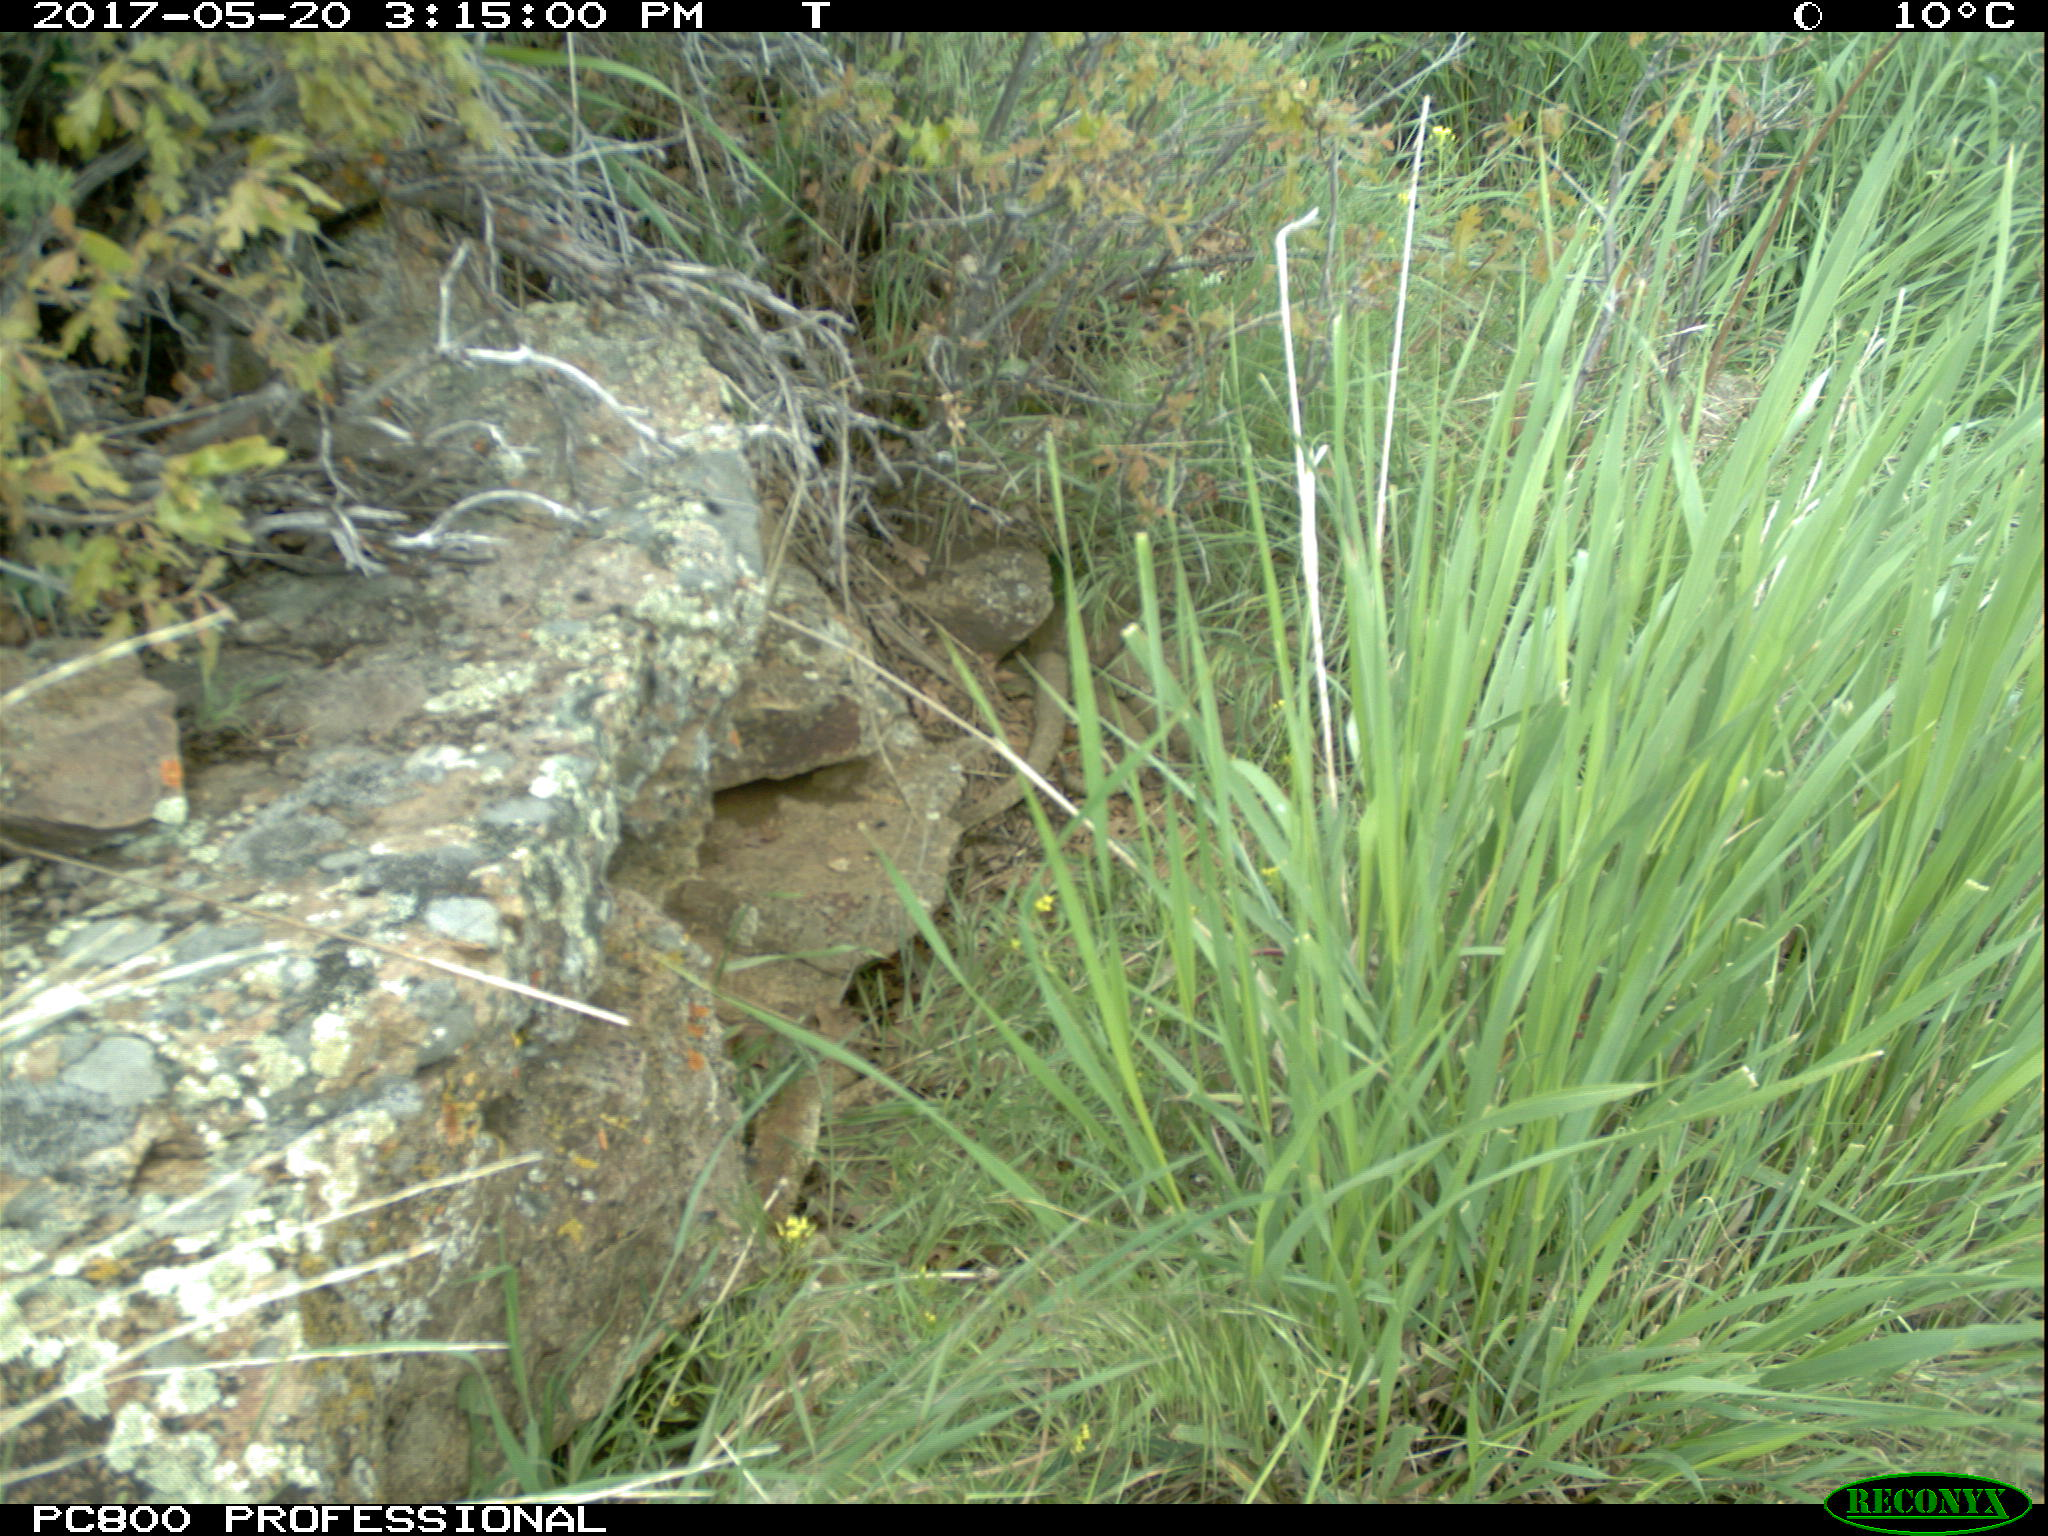snake: (971, 644, 1080, 820), (731, 1012, 818, 1225), (1056, 682, 1150, 805)
